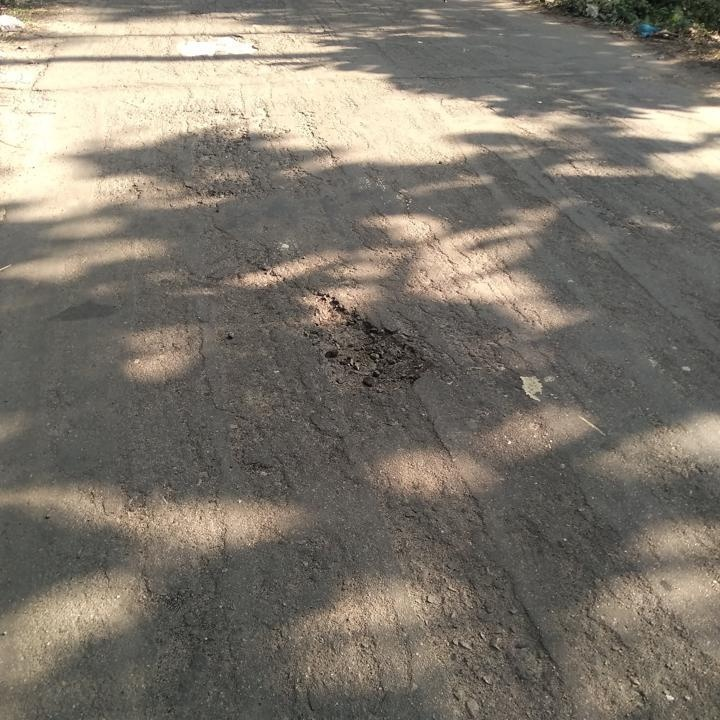pothole: (301, 290, 435, 398)
